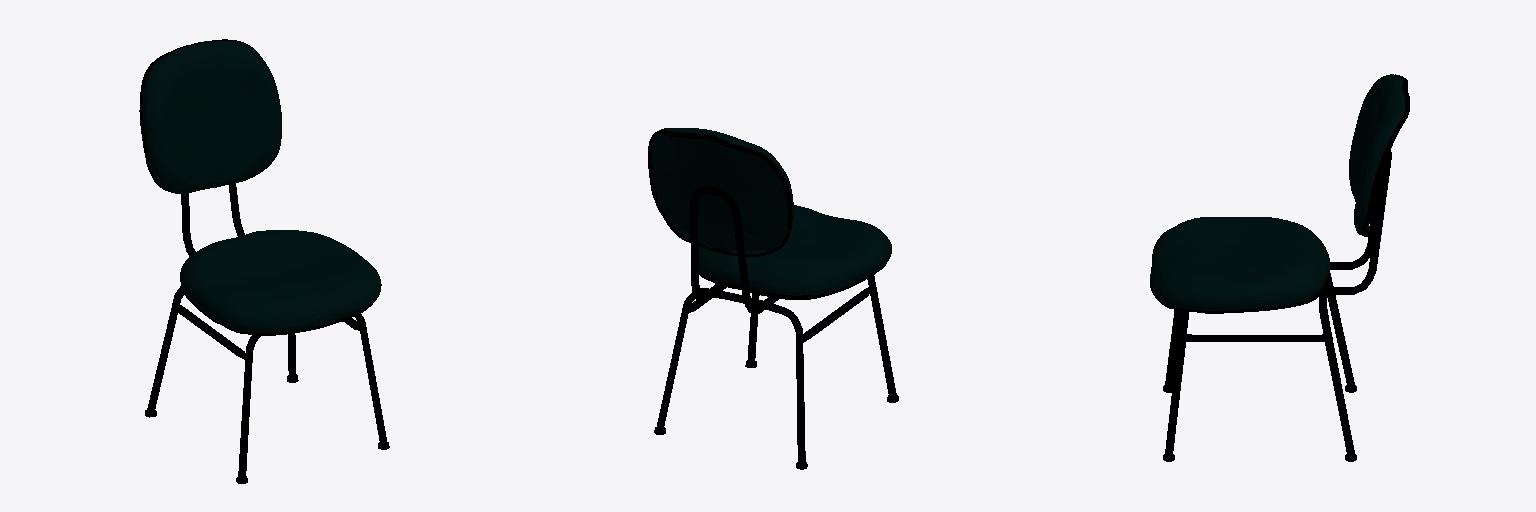
File: cadeira.obj
The picture shows the model from 3 angles: view 1: azimuth 30°, elevation 25°; view 2: azimuth 150°, elevation 25°; view 3: azimuth 270°, elevation 25°; orthographic projection.
Parts seen in each view (by area): view 1: Cadeira_Cylinder.007; view 2: Cadeira_Cylinder.007; view 3: Cadeira_Cylinder.007.
Part boxes in pixels (bbox=[...]): Cadeira_Cylinder.007: bbox=[139, 39, 389, 483]; Cadeira_Cylinder.007: bbox=[648, 128, 898, 469]; Cadeira_Cylinder.007: bbox=[1150, 74, 1409, 461].
Size of the model in its own units: 0.465 by 0.9073 by 0.6368.